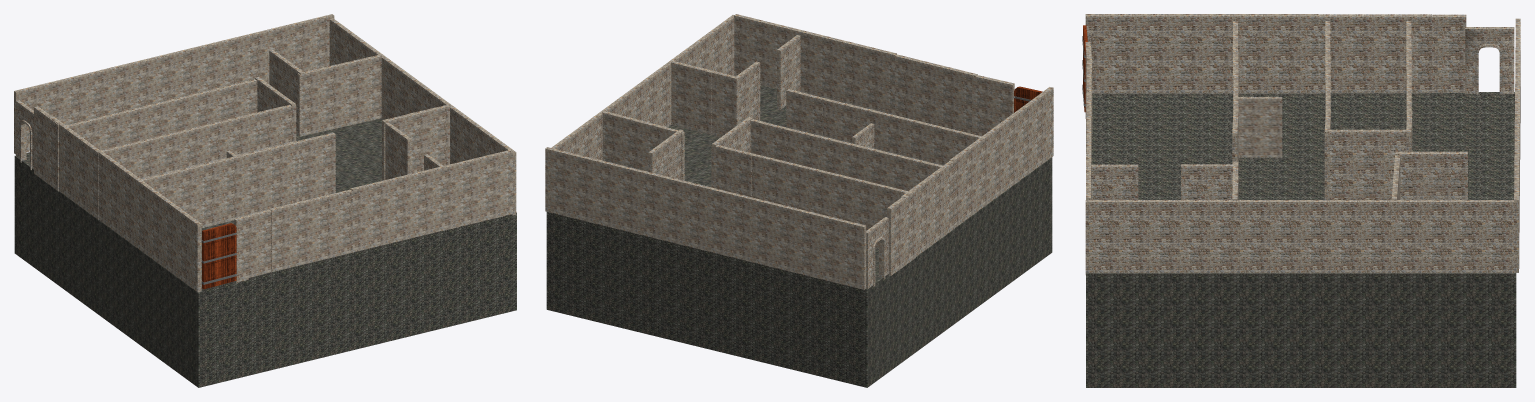
Rendered from map_coco.obj.
The picture shows the model from 3 angles, left to right: view 1: azimuth 30°, elevation 25°; view 2: azimuth 150°, elevation 25°; view 3: azimuth 270°, elevation 25°; orthographic projection. The views are drawn at different scales.
Parts seen in each view (by area): view 1: FloorBox, Box001.001, Box001.005, Box001.009_Box001.020, Box001.002, Box001.008, Box001.010_Box001.021, Box001.013_Box001.024, Box001.006, Box001.015_Box001.026, Box001.003, Box001.012_Box001.023 (+12 smaller); view 2: FloorBox, Box001.001, Box001.005, Box001.002, Box001.015_Box001.026, Box001.008, Box001.009_Box001.020, Box001.013_Box001.024, Box001.006, Box001.010_Box001.021, Box001.003, Box001.021_Box001.032 (+13 smaller); view 3: FloorBox, Box001.008, Box001.002, Box001.003, Box001.018_Box001.029, Box001.020_Box001.031, Box001.004, Box001.011_Box001.022, Box001, Box001.022_Box001.033, Box001.019_Box001.030, Box001.023_Box001.034 (+7 smaller).
Part boxes in pixels (x1,y1,x2,y2): FloorBox: (14,118,516,387); Box001.001: (14,14,334,154); Box001.005: (350,150,512,252); Box001.009_Box001.020: (141,141,299,227); Box001.002: (98,151,201,292); Box001.008: (329,18,516,215); Box001.010_Box001.021: (297,54,381,136); Box001.013_Box001.024: (101,112,260,178); Box001.006: (269,189,352,271); Box001.015_Box001.026: (66,86,225,150); Box001.003: (49,116,100,220); Box001.012_Box001.023: (298,132,335,201); FloorBox: (546,85,1052,387); Box001.001: (545,147,866,289); Box001.005: (734,14,896,114); Box001.002: (949,87,1053,227); Box001.015_Box001.026: (747,152,907,248); Box001.008: (551,15,734,160); Box001.009_Box001.020: (821,98,981,165); Box001.013_Box001.024: (782,127,942,190); Box001.006: (895,54,977,133); Box001.010_Box001.021: (602,111,684,180); Box001.003: (901,161,954,256); Box001.021_Box001.032: (671,61,711,134); FloorBox: (1086,92,1516,387); Box001.008: (1085,200,1514,274); Box001.002: (1085,14,1318,93); Box001.003: (1318,14,1431,93); Box001.018_Box001.029: (1325,129,1380,199); Box001.020_Box001.031: (1238,97,1282,157); Box001.004: (1432,14,1466,92); Box001.011_Box001.022: (1395,151,1450,199); Box001: (1465,27,1514,94); Box001.022_Box001.033: (1181,164,1233,199); Box001.019_Box001.030: (1355,129,1411,199); Box001.023_Box001.034: (1091,164,1138,199).
Size of the model in its own units: 516 by 252 by 522.
